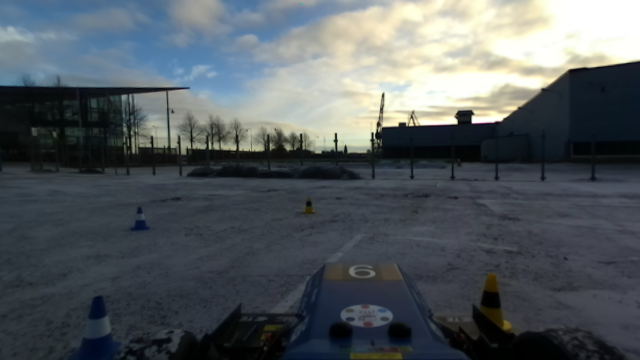blue: (129, 205, 151, 234)
yellow: (298, 195, 316, 217)
